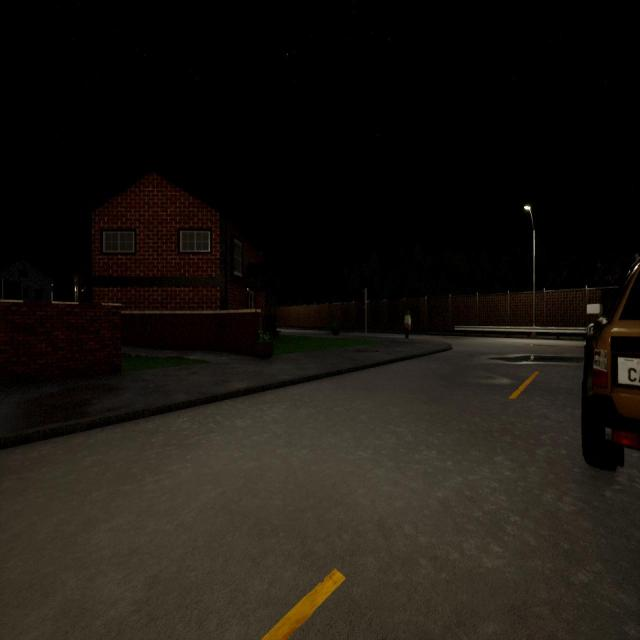Pedestrian: (403, 311, 411, 338)
Vehicle: (578, 260, 640, 469)
